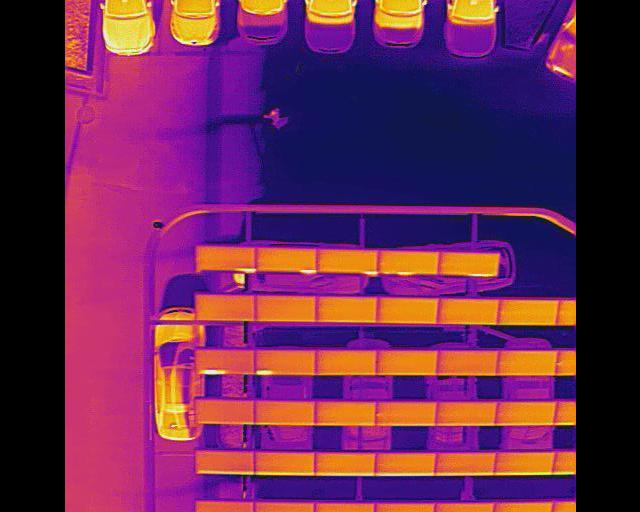No-Anomaly: (497, 299, 559, 325), (436, 299, 500, 324), (436, 351, 500, 376), (495, 351, 559, 376), (375, 299, 438, 324), (375, 350, 437, 375), (315, 350, 377, 375), (314, 298, 376, 323), (254, 297, 316, 322), (436, 401, 497, 426), (195, 296, 255, 321), (253, 401, 315, 425), (433, 452, 494, 476), (375, 402, 436, 426), (495, 402, 556, 426), (316, 402, 376, 426), (314, 453, 376, 476), (374, 452, 435, 475), (494, 452, 555, 475), (254, 452, 314, 474), (195, 401, 254, 423), (195, 452, 253, 474), (433, 502, 494, 512), (493, 502, 553, 512), (196, 502, 253, 512), (374, 504, 434, 512)
Unclassified: (254, 249, 317, 273), (377, 251, 438, 275), (317, 250, 378, 274), (254, 351, 315, 375), (438, 253, 498, 277), (195, 248, 255, 272), (196, 350, 253, 374), (314, 502, 376, 512), (253, 503, 314, 512)
